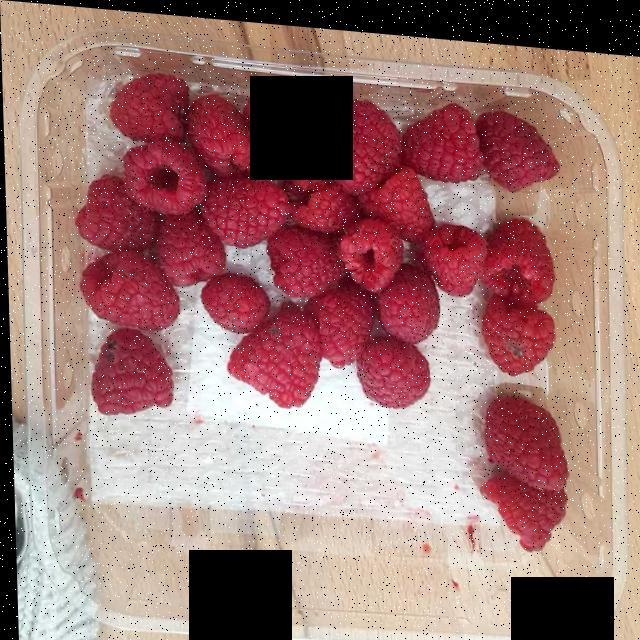raspberries: (73, 67, 580, 549), (231, 312, 325, 408), (403, 105, 487, 185), (337, 218, 405, 294)
